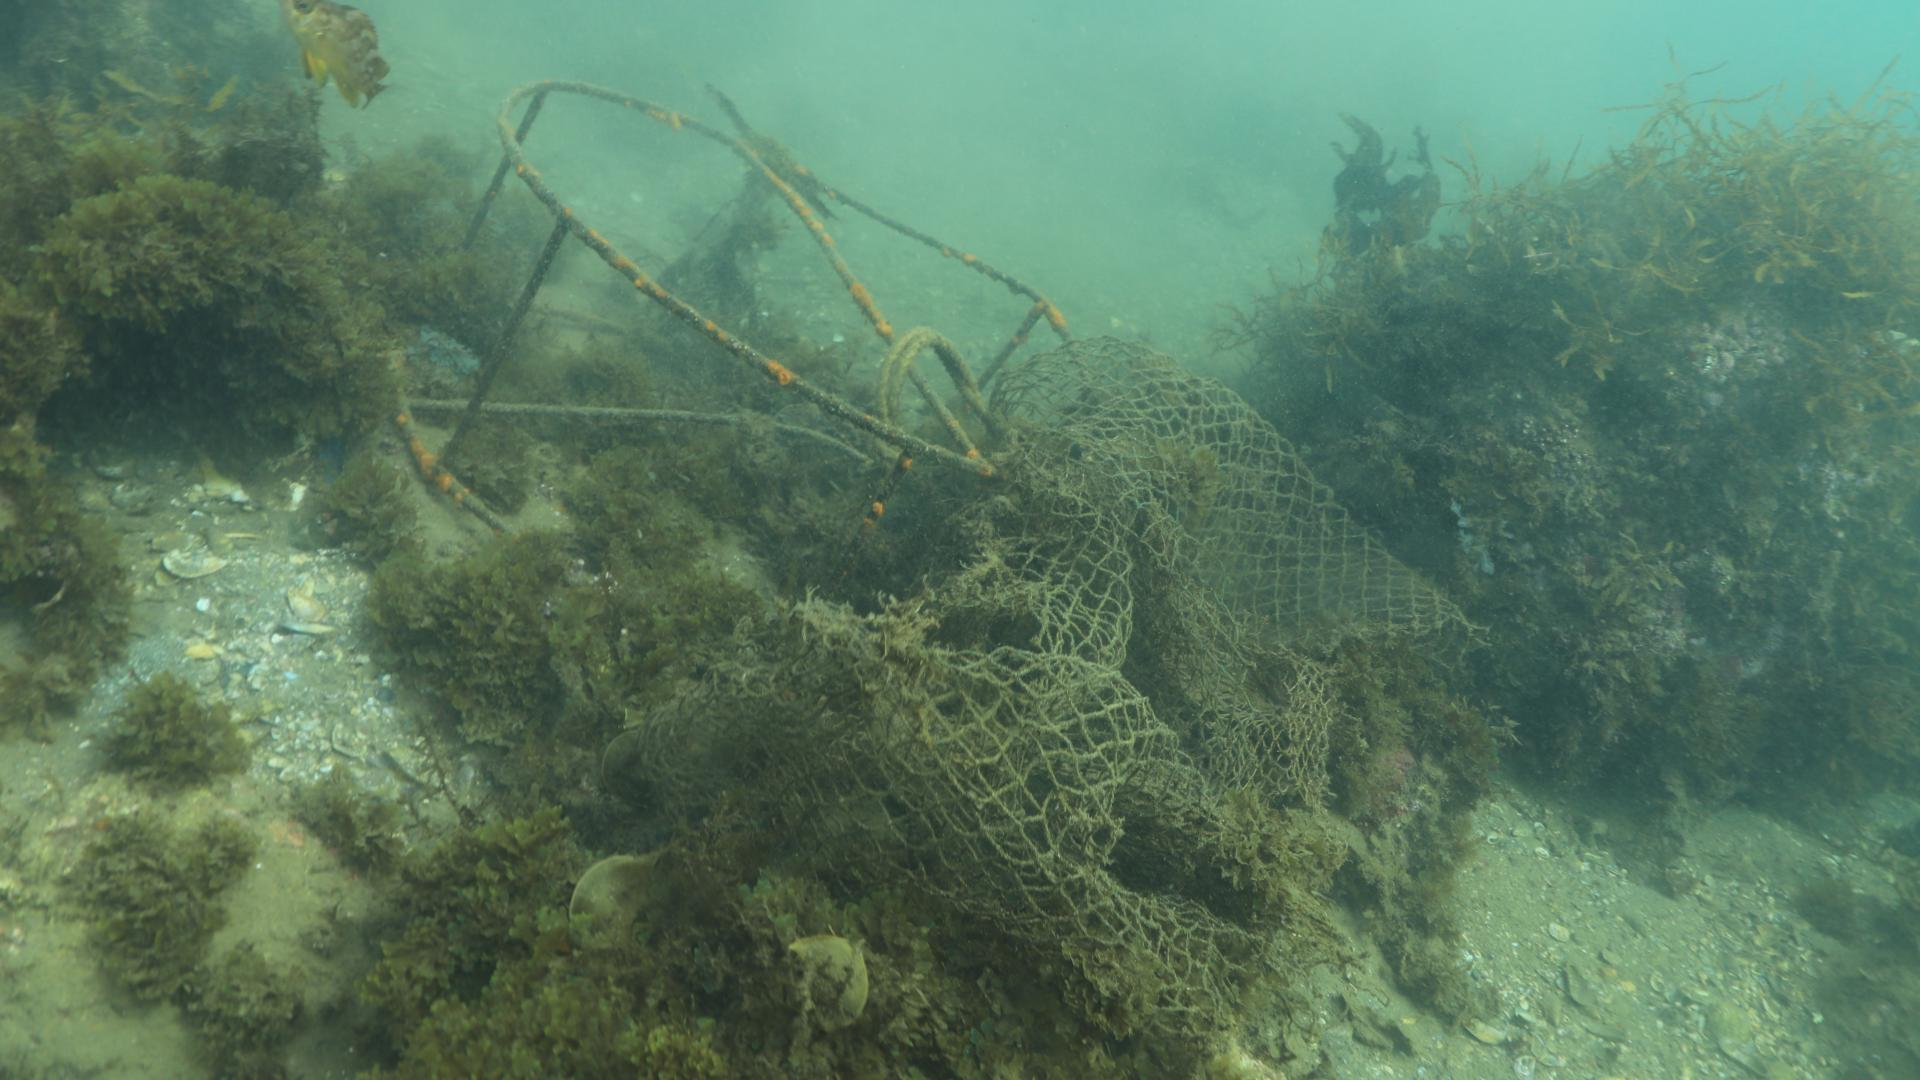bundle of ropes: (866, 324, 992, 473)
fish net: (626, 331, 1470, 1036)
